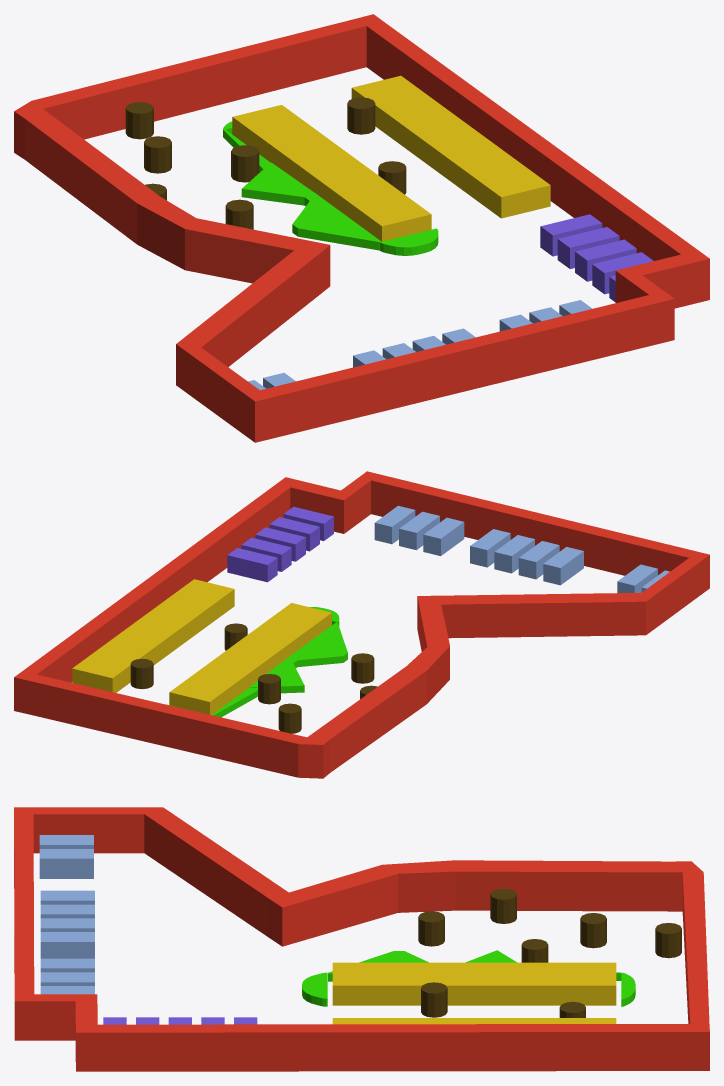
File: parking_map_mod.dae
3 views of the same model, one above another, from view 1: azimuth 30°, elevation 25°; view 2: azimuth 150°, elevation 25°; view 3: azimuth 270°, elevation 25° (orthographic). The views are drawn at different scales.
Parts seen in each view (by area): view 1: Cube.005, car_1.006, car_1, Cube.001, car_1.002, car_1.004, car_1.005, Cylinder, Cylinder.002, Cylinder.003, Cylinder.005, Cylinder.006 (+1 smaller); view 2: Cube.005, car_1.006, car_1, car_1.002, car_1.004, car_1.005, Cube.001, car_1.003, Cylinder.006, Cylinder, Cylinder.003, Cylinder.005; view 3: Cube.005, car_1, car_1.004, car_1.003, Cube.001, car_1.005, car_1.006, car_1.002, Cylinder.006, Cylinder.001, Cylinder.004, Cylinder.003 (+2 smaller).
Part boxes in pixels (<box>): Cube.005: <box>14,14,709,442</box>; car_1.006: <box>351,75,550,218</box>; car_1: <box>232,105,431,241</box>; Cube.001: <box>223,121,438,255</box>; car_1.002: <box>540,214,653,302</box>; car_1.004: <box>353,328,475,367</box>; car_1.005: <box>499,300,592,331</box>; Cylinder: <box>347,97,375,134</box>; Cylinder.002: <box>125,102,153,139</box>; Cylinder.003: <box>144,136,171,173</box>; Cylinder.005: <box>231,145,259,182</box>; Cylinder.006: <box>225,199,253,229</box>; Cube.005: <box>14,471,709,778</box>; car_1.006: <box>72,579,234,692</box>; car_1: <box>169,603,331,714</box>; car_1.002: <box>227,506,333,582</box>; car_1.004: <box>470,529,583,585</box>; car_1.005: <box>374,505,464,555</box>; Cube.001: <box>167,607,347,717</box>; car_1.003: <box>617,564,669,592</box>; Cylinder.006: <box>351,653,374,683</box>; Cylinder: <box>130,658,153,689</box>; Cylinder.003: <box>278,703,301,733</box>; Cylinder.005: <box>258,674,280,704</box>; Cube.005: <box>14,807,709,1071</box>; car_1: <box>332,962,616,1005</box>; car_1.004: <box>40,890,94,958</box>; car_1.003: <box>39,835,93,878</box>; Cube.001: <box>302,950,635,1006</box>; car_1.005: <box>40,958,94,994</box>; car_1.006: <box>332,1018,616,1024</box>; car_1.002: <box>103,1017,257,1024</box>; Cylinder.006: <box>418,911,444,946</box>; Cylinder.001: <box>421,982,447,1017</box>; Cylinder.004: <box>490,888,516,923</box>; Cylinder.003: <box>580,913,606,948</box>.
Size of the model in its own units: 40.07 by 52.27 by 3.24.
